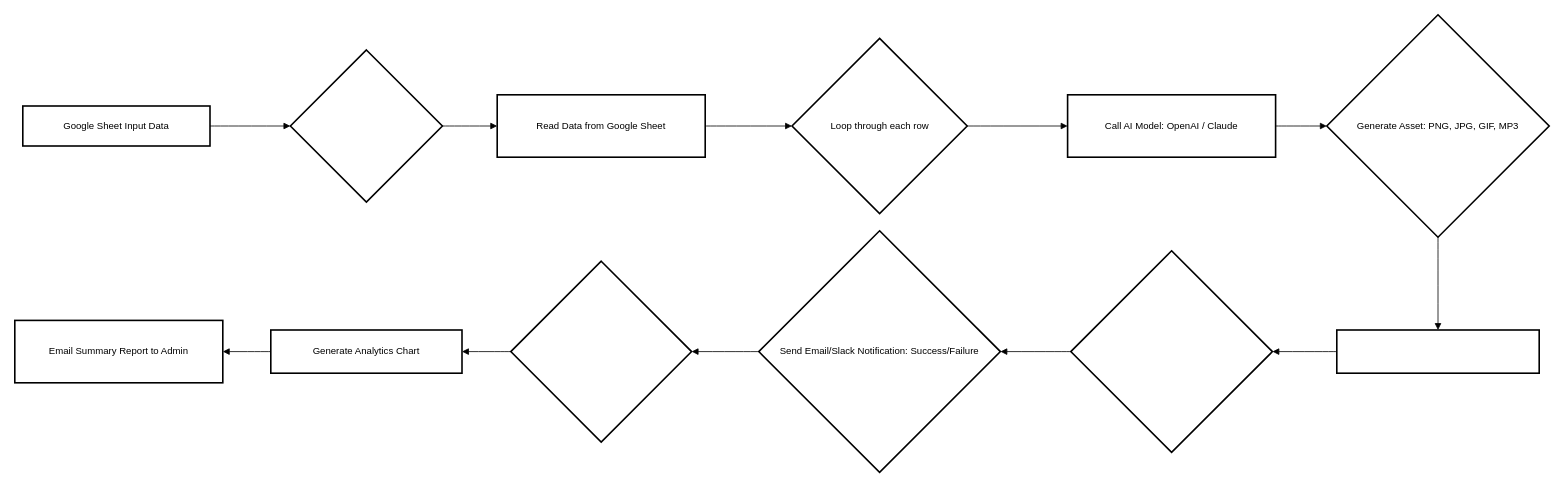
Image size: 1563x486. Some labels were removed from this diagram. The shapes that lost their labels are listed below. From the top down, each one's box as (x1, y1, x2, y2) in pixels, then its label:
(289, 49, 443, 202): Trigger Automation
(510, 260, 692, 442): Daily Report Generation
(1070, 250, 1273, 453): Log Task Status to Database
(1336, 329, 1540, 374): Store Asset in Google Drive
